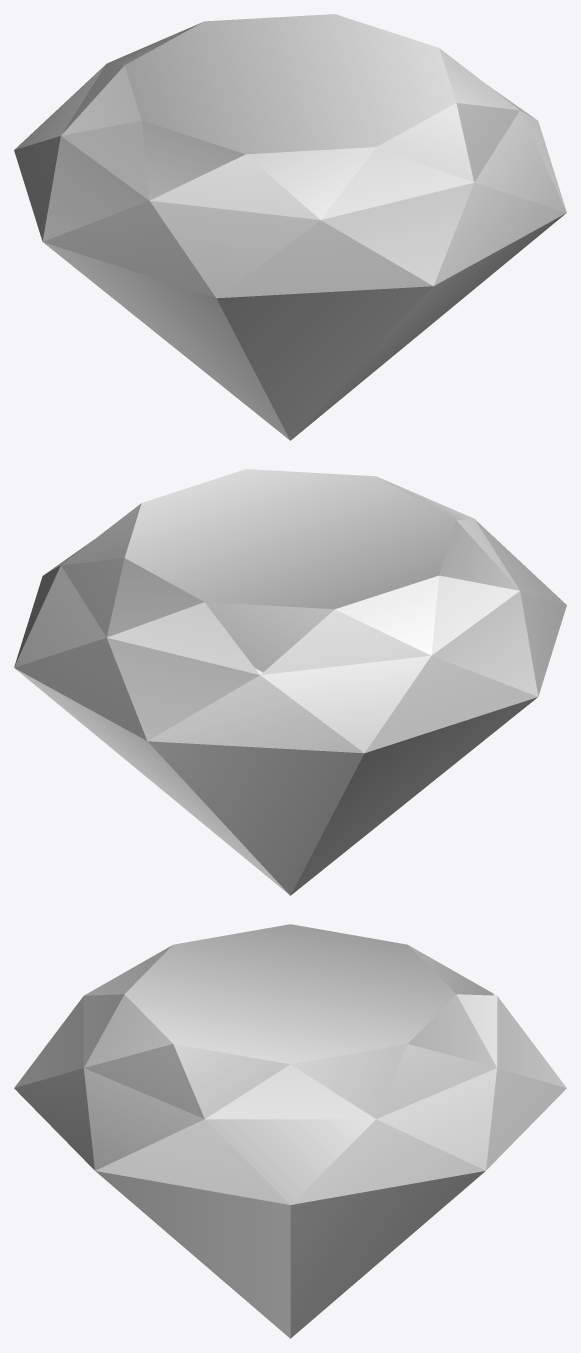
The model's file is odaia.FBX.
3 views of the same model, one above another, from view 1: azimuth 30°, elevation 25°; view 2: azimuth 150°, elevation 25°; view 3: azimuth 270°, elevation 25° (orthographic). The views are drawn at different scales.
Parts seen in each view (by area): view 1: Jewelry_01; view 2: Jewelry_01; view 3: Jewelry_01.
Part boxes in pixels (left/top/right/bottom): Jewelry_01: left=14, top=14, right=566, bottom=440; Jewelry_01: left=14, top=469, right=566, bottom=895; Jewelry_01: left=14, top=924, right=566, bottom=1338.
Bounding box in the file's own units: 8.31 × 8.31 × 5.71.
1 material, 1 textured.
